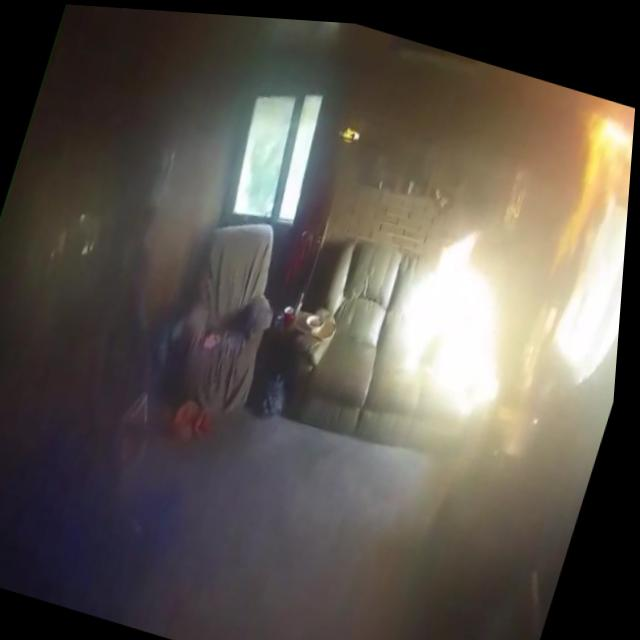fire: (567, 96, 636, 200)
